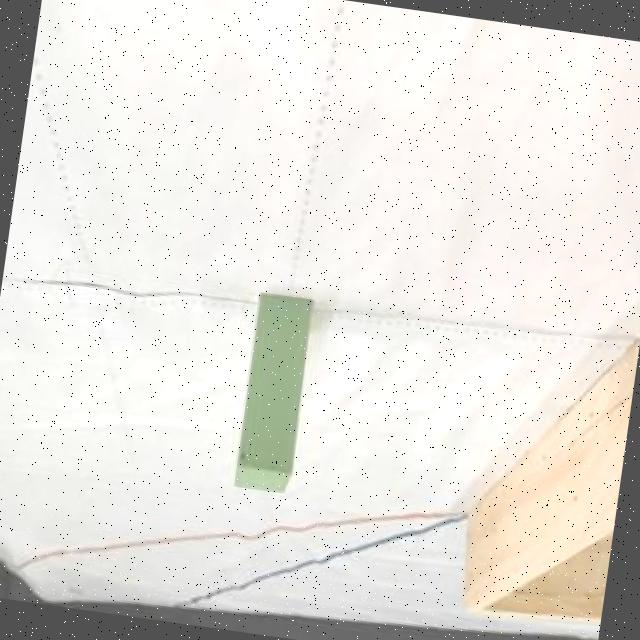greenbox: (230, 294, 320, 499)
